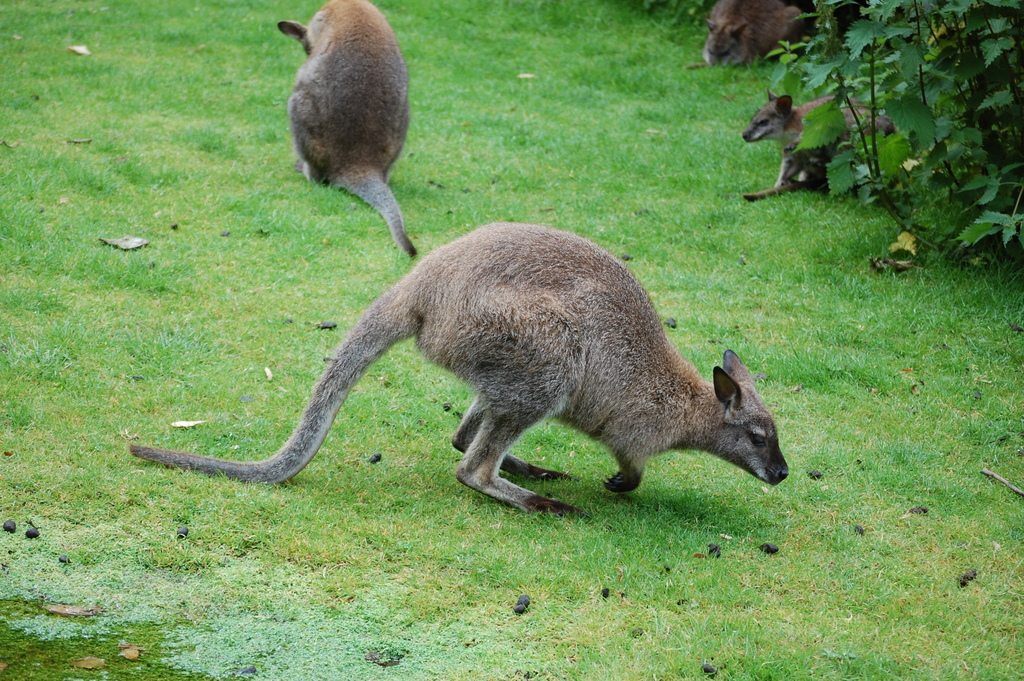kangaroo: (128, 221, 789, 520)
